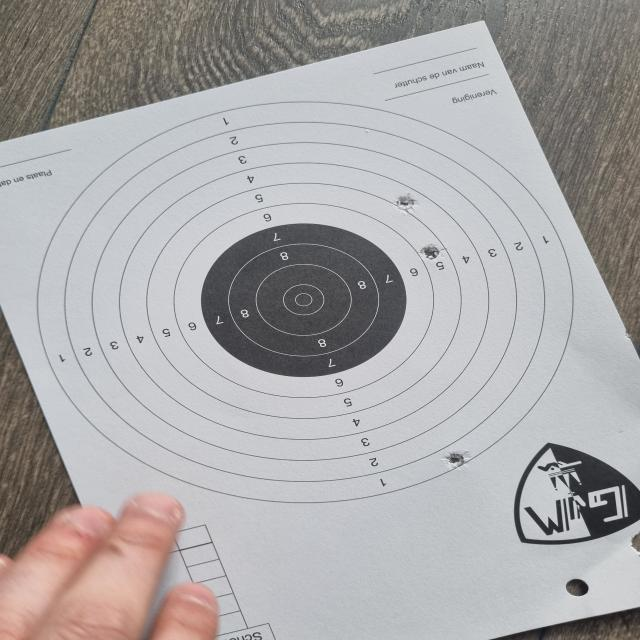1: (444, 452, 470, 470)
5: (391, 193, 423, 213)
6: (416, 246, 448, 260)
Target: (32, 99, 574, 504)
black_contour: (202, 222, 408, 376)
